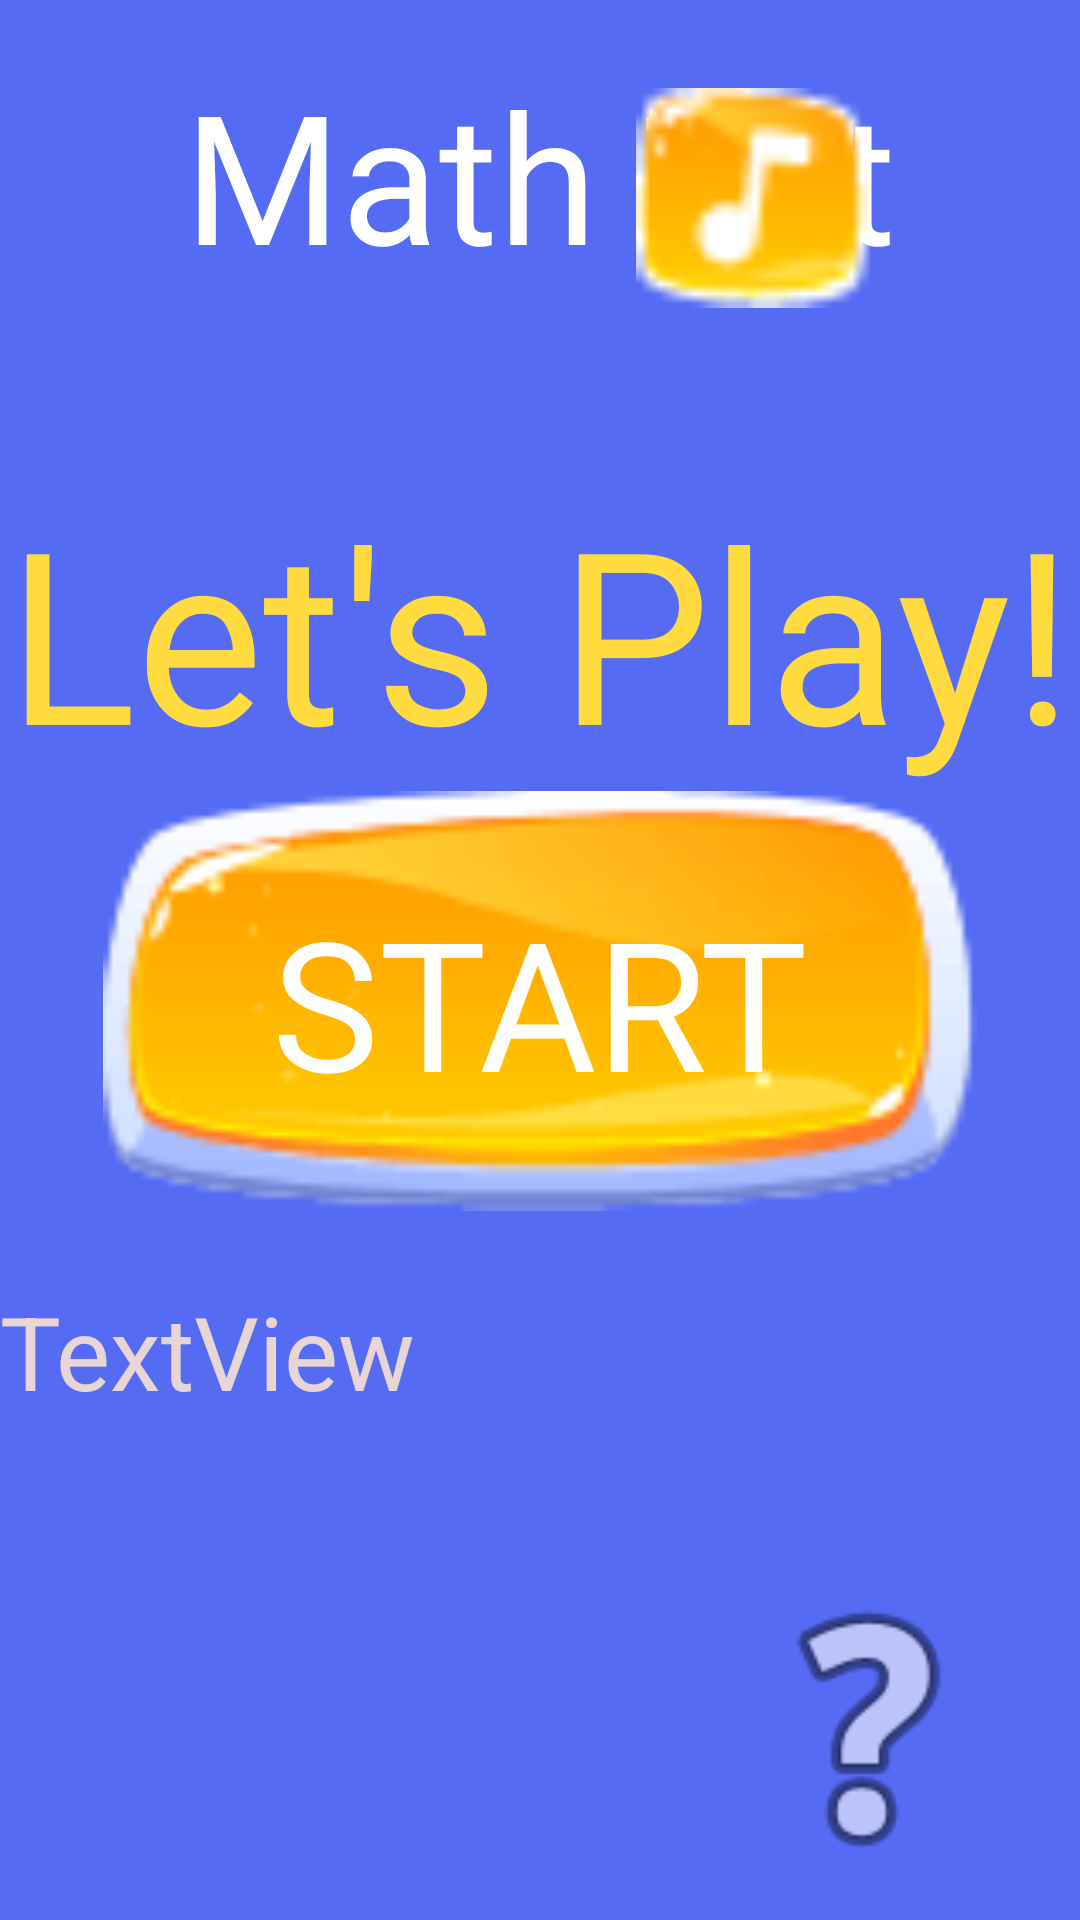

Locate icon controls on the screen. Image size 1080 x 1920, boxes as bbox(x1, y1, x2, y2).
help: bbox(797, 1612, 941, 1847)
music turnon: bbox(636, 88, 876, 308)
